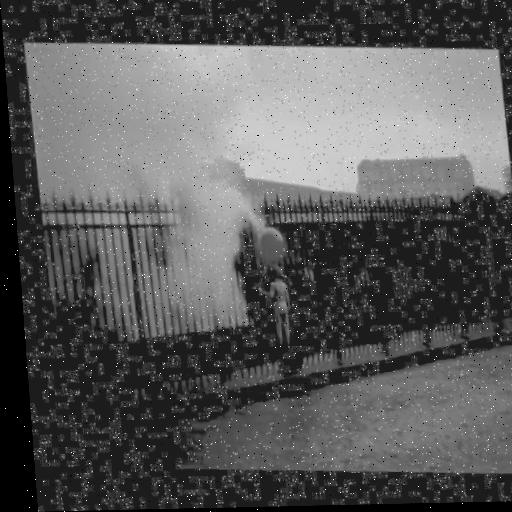balloon: (252, 224, 285, 263)
